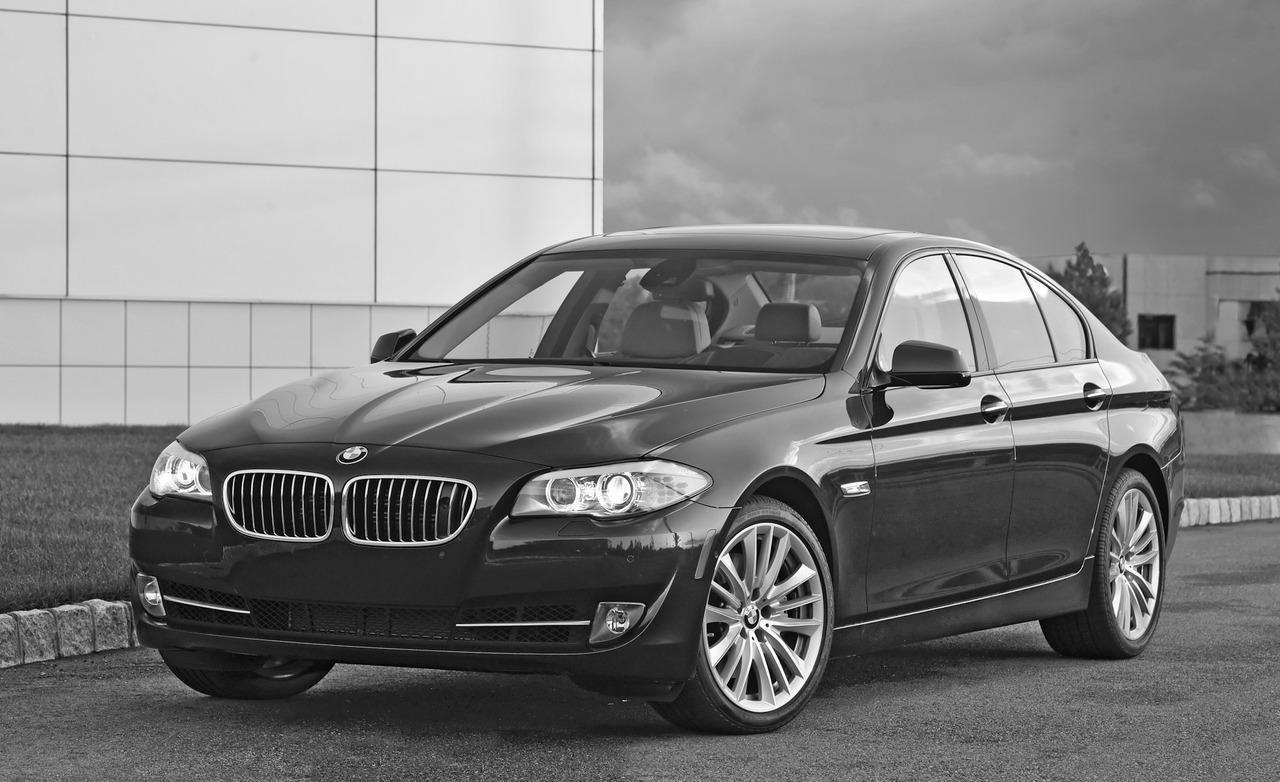car: (102, 217, 1218, 739)
